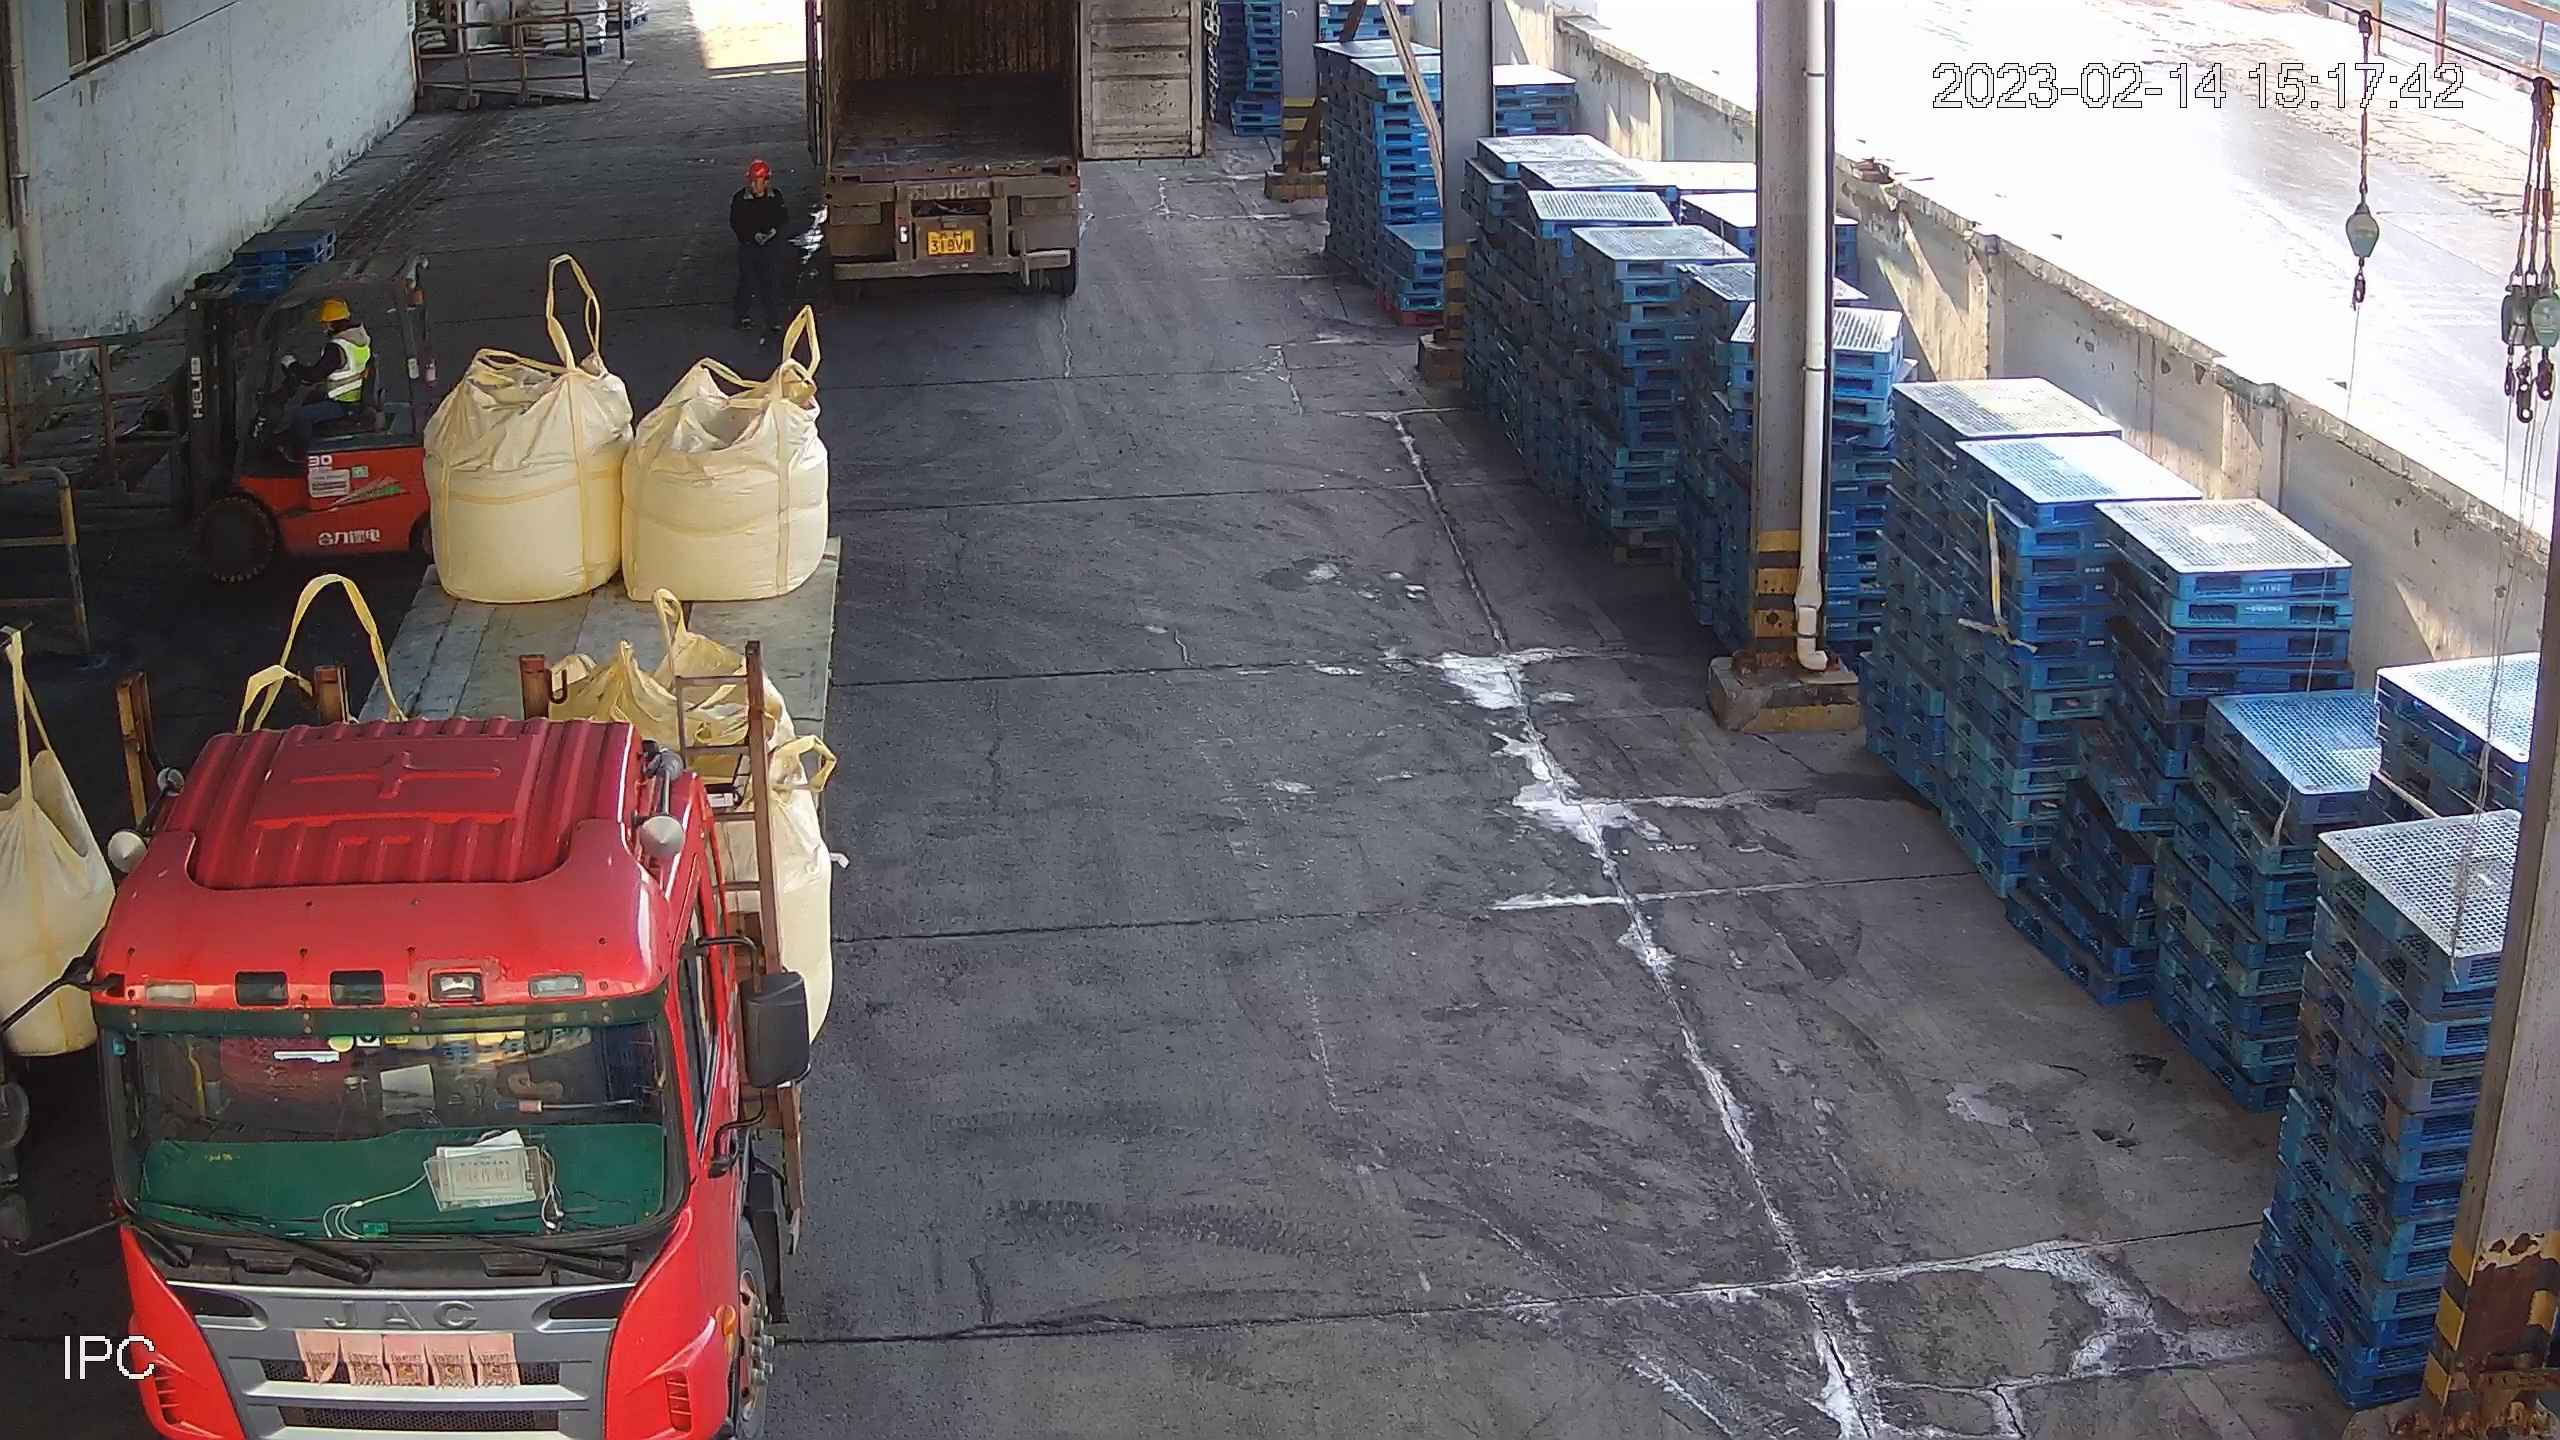head: (288, 288, 370, 364), (733, 162, 786, 221)
helmet: (315, 300, 352, 326), (746, 156, 774, 182)
people: (244, 292, 378, 454), (719, 160, 788, 332)
truck: (48, 334, 873, 1440), (790, 3, 1229, 304)
